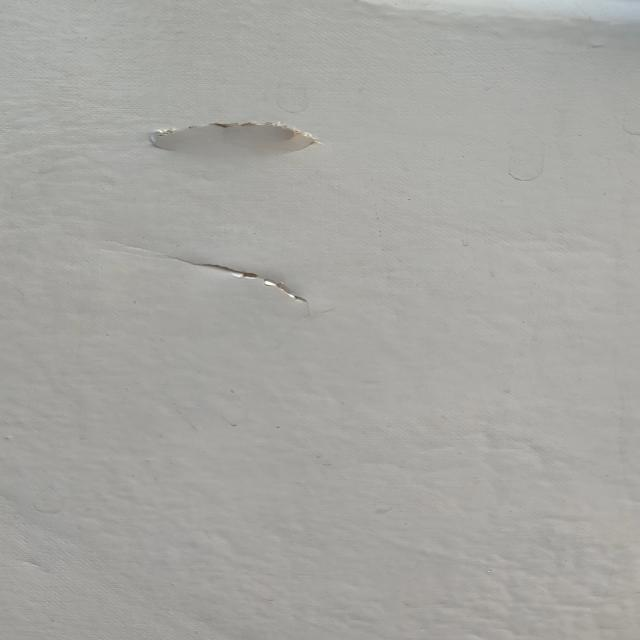Scratches: (157, 244, 320, 324), (134, 100, 343, 162)
